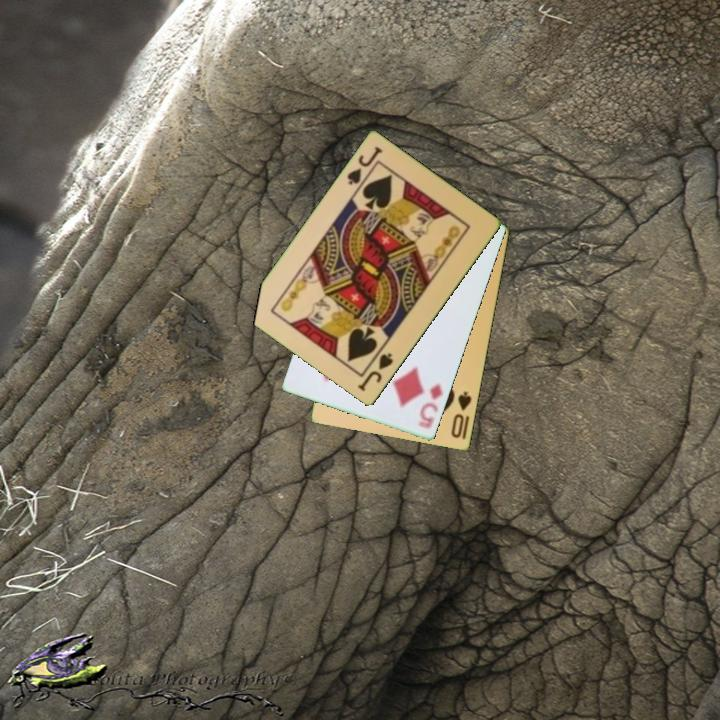10s: (448, 388, 475, 441)
5d: (415, 380, 446, 433)
Js: (343, 143, 385, 193), (354, 350, 396, 395)
